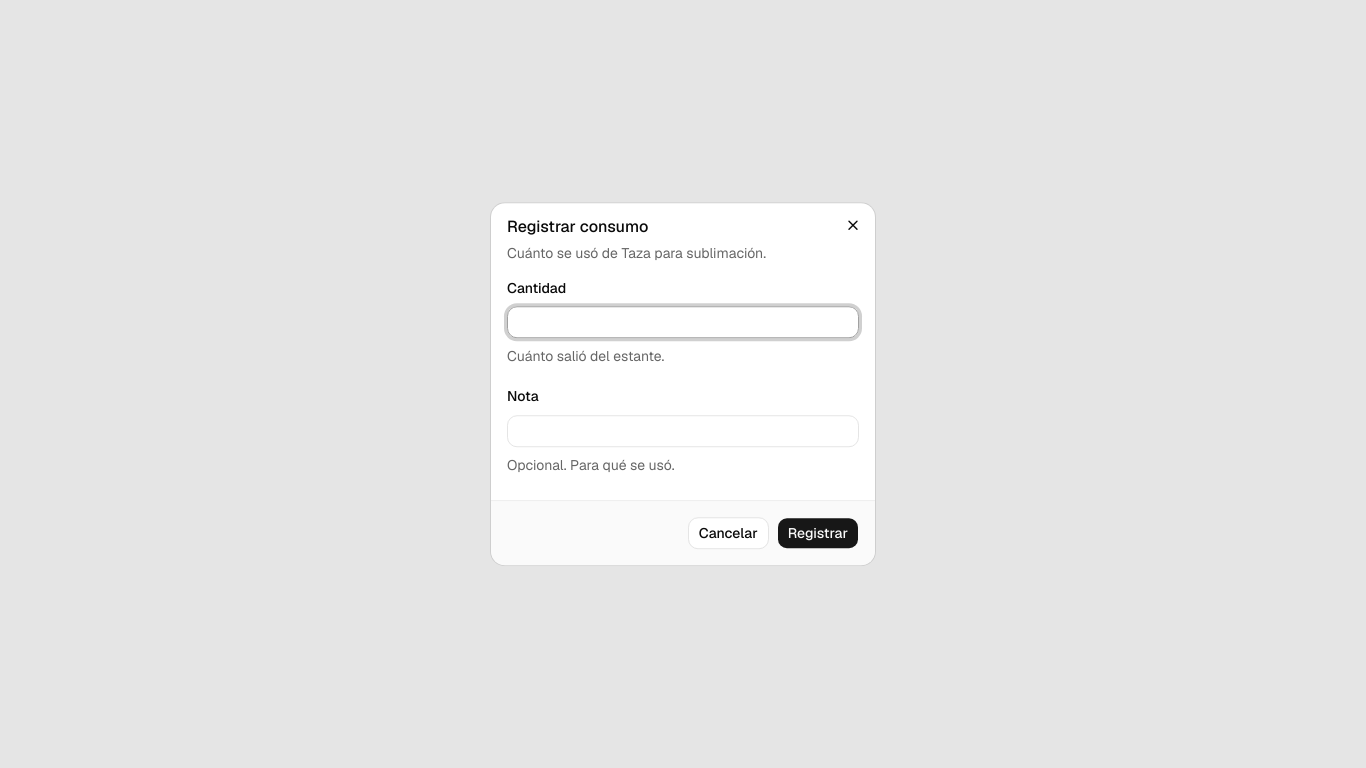
Test: ConsumptionDialog › muestra el fallo definitivo sin cerrar
The image size is (1366, 768).
In the field labelled "Cantidad": (683, 322) [507,306,859,338], type "5"
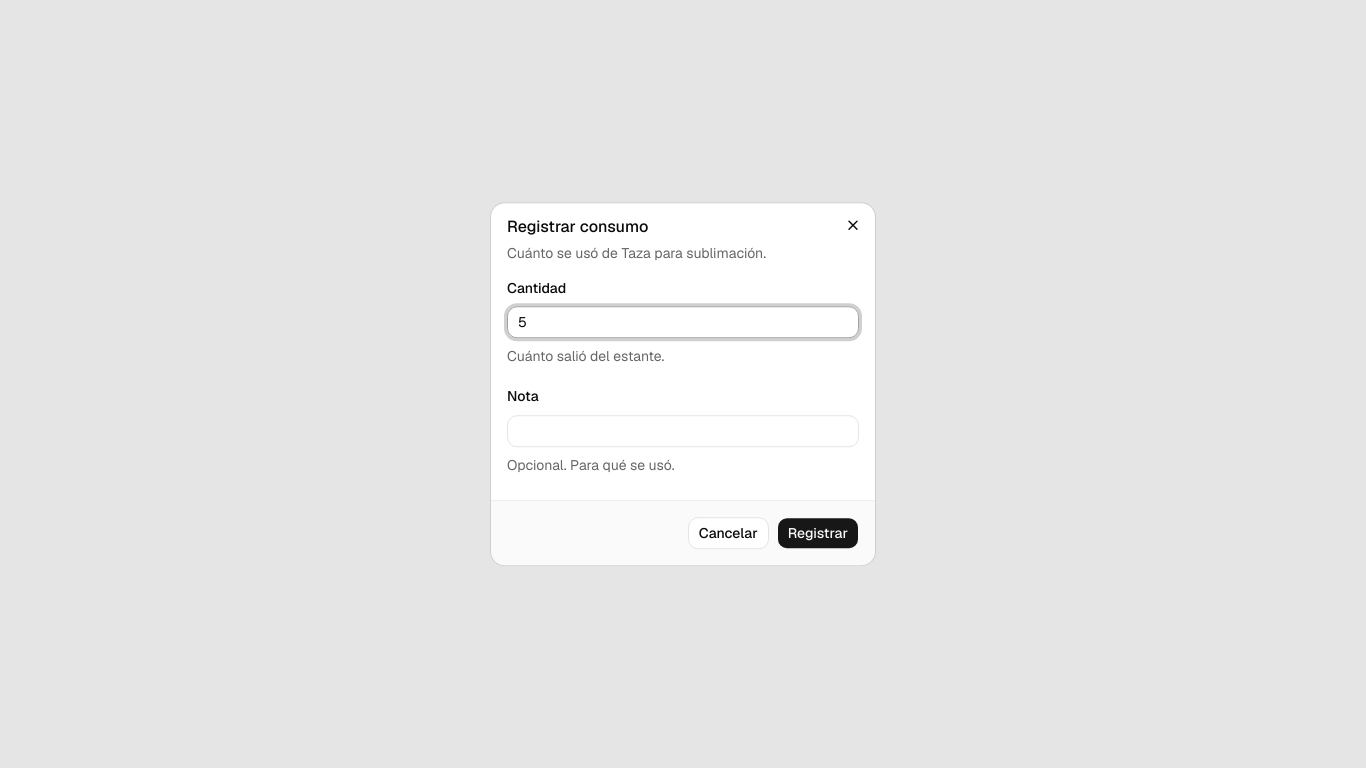
Click the button "Registrar": (818, 533) [777,517,859,549]
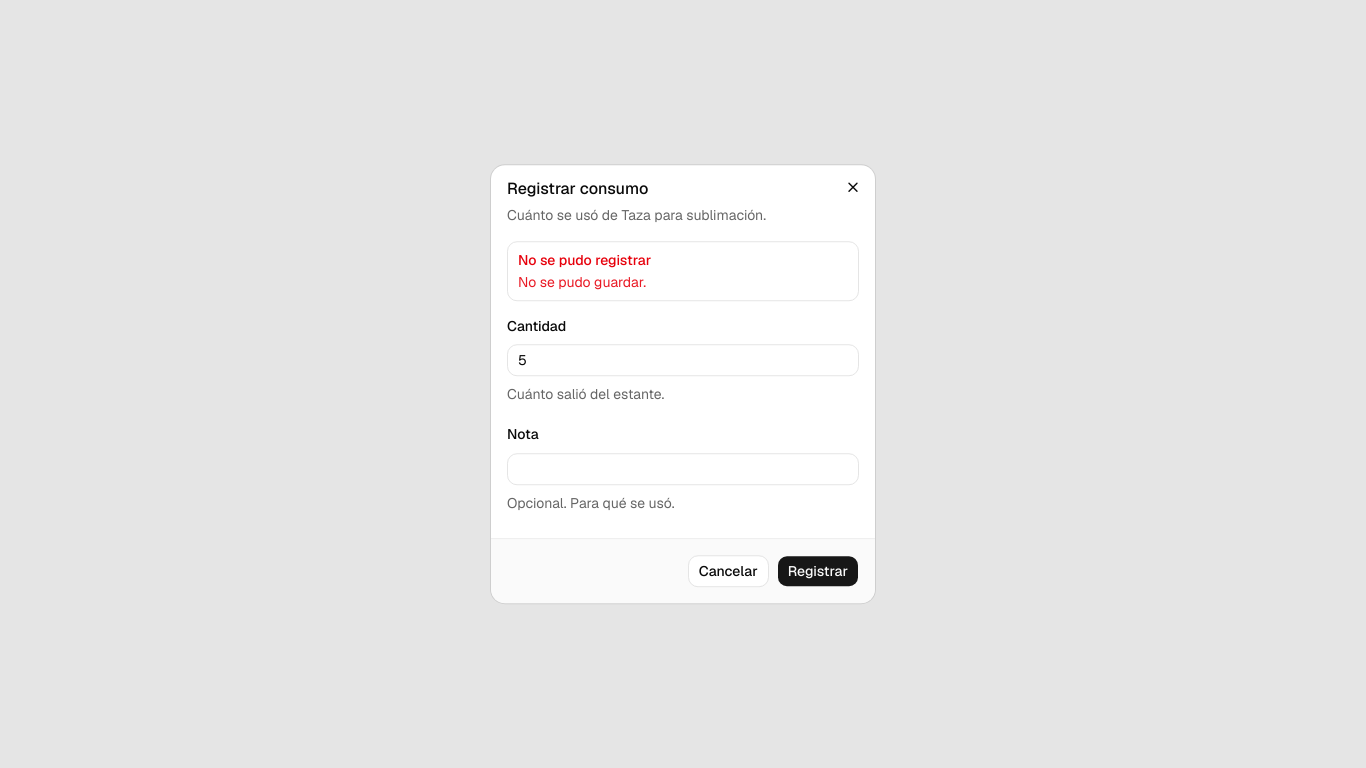
Check: the text "No se pudo guardar." is shown, box [518,273,646,291]
